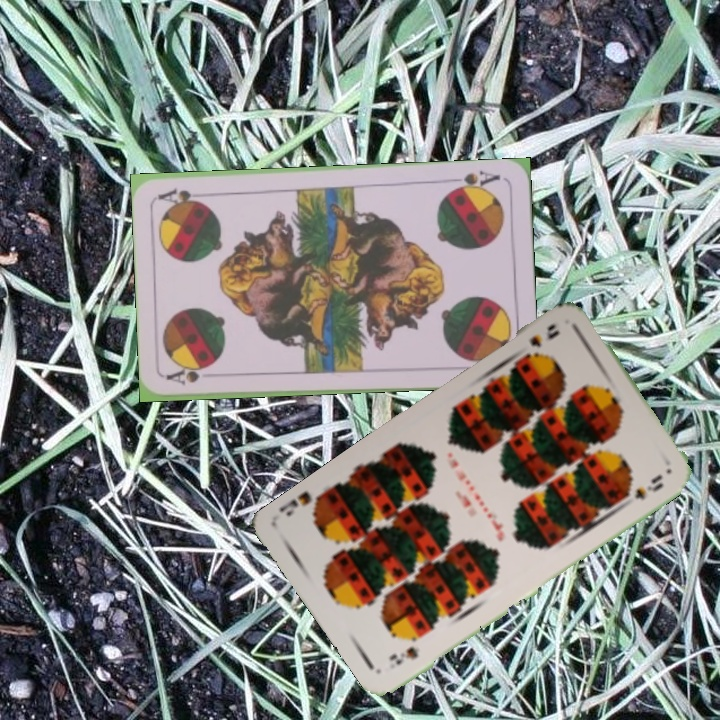S9: (517, 319, 562, 363), (386, 642, 421, 668)
SA: (445, 166, 503, 195), (163, 364, 211, 388)
